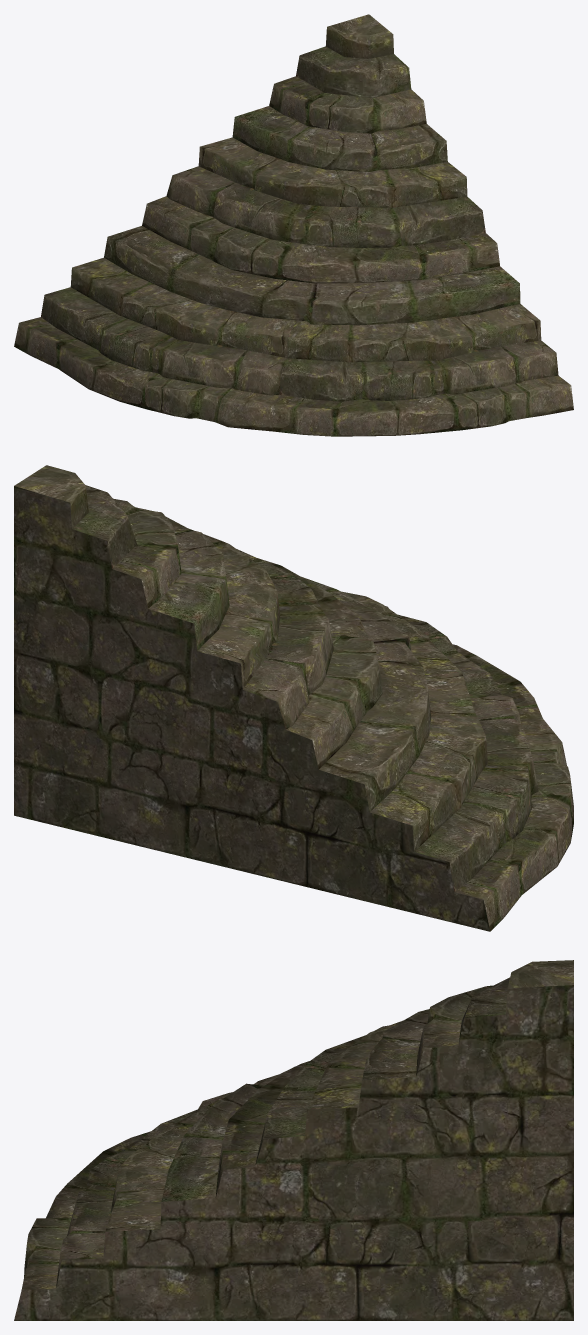
Rendered from Staircase_Round_Corner_01-transformed.glb.
The picture shows the model from 3 angles, top to bottom: view 1: azimuth 30°, elevation 25°; view 2: azimuth 150°, elevation 25°; view 3: azimuth 270°, elevation 25°; orthographic projection. The views are drawn at different scales.
Parts seen in each view (by area): view 1: default; view 2: default; view 3: default.
Boxes of the visible parts, bbox=[...] form: default: bbox=[14, 14, 573, 436]; default: bbox=[14, 465, 573, 931]; default: bbox=[14, 960, 573, 1320].
Size of the model in its own units: 6.05 by 4 by 6.05.
Materials: 2 (2 with a texture image).
